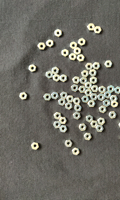nut: (94, 26, 102, 34), (74, 47, 82, 55), (77, 54, 85, 62), (105, 60, 113, 68), (93, 62, 101, 70), (80, 77, 88, 85), (85, 82, 93, 90), (51, 92, 59, 100), (54, 112, 62, 120), (59, 117, 67, 125), (54, 121, 62, 129), (60, 125, 68, 133), (84, 133, 92, 141), (65, 140, 73, 148), (88, 24, 96, 31), (55, 29, 62, 37), (79, 38, 86, 46), (38, 43, 46, 50), (70, 42, 77, 50), (62, 49, 69, 57), (70, 53, 77, 61), (52, 67, 59, 75), (46, 71, 53, 79), (53, 74, 60, 82), (60, 75, 68, 82), (90, 69, 97, 77), (82, 70, 89, 78), (90, 77, 98, 84), (108, 85, 115, 93), (99, 86, 106, 94), (98, 94, 106, 101), (105, 91, 112, 99), (110, 95, 118, 102), (111, 101, 119, 108), (103, 100, 111, 107), (44, 94, 52, 101), (61, 92, 68, 100), (65, 103, 73, 110), (82, 96, 90, 103), (100, 106, 107, 114), (109, 112, 117, 119), (74, 112, 81, 120), (87, 115, 94, 123), (98, 118, 106, 125), (91, 121, 99, 128), (96, 125, 104, 132), (31, 143, 39, 150), (79, 124, 87, 131), (73, 148, 80, 156), (47, 40, 54, 47), (29, 65, 36, 72), (86, 63, 93, 70), (73, 77, 80, 84), (92, 85, 99, 92), (79, 86, 86, 93), (72, 85, 79, 92), (91, 94, 98, 101), (20, 93, 27, 100), (67, 96, 74, 103), (59, 99, 66, 106), (74, 98, 81, 105), (75, 105, 82, 112), (85, 90, 93, 96), (88, 101, 96, 107), (115, 87, 120, 94), (119, 122, 120, 129)
